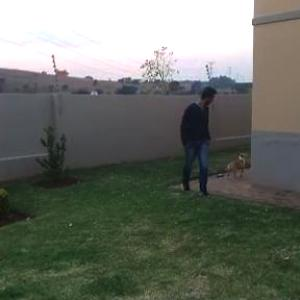follow: (180, 77, 217, 201)
